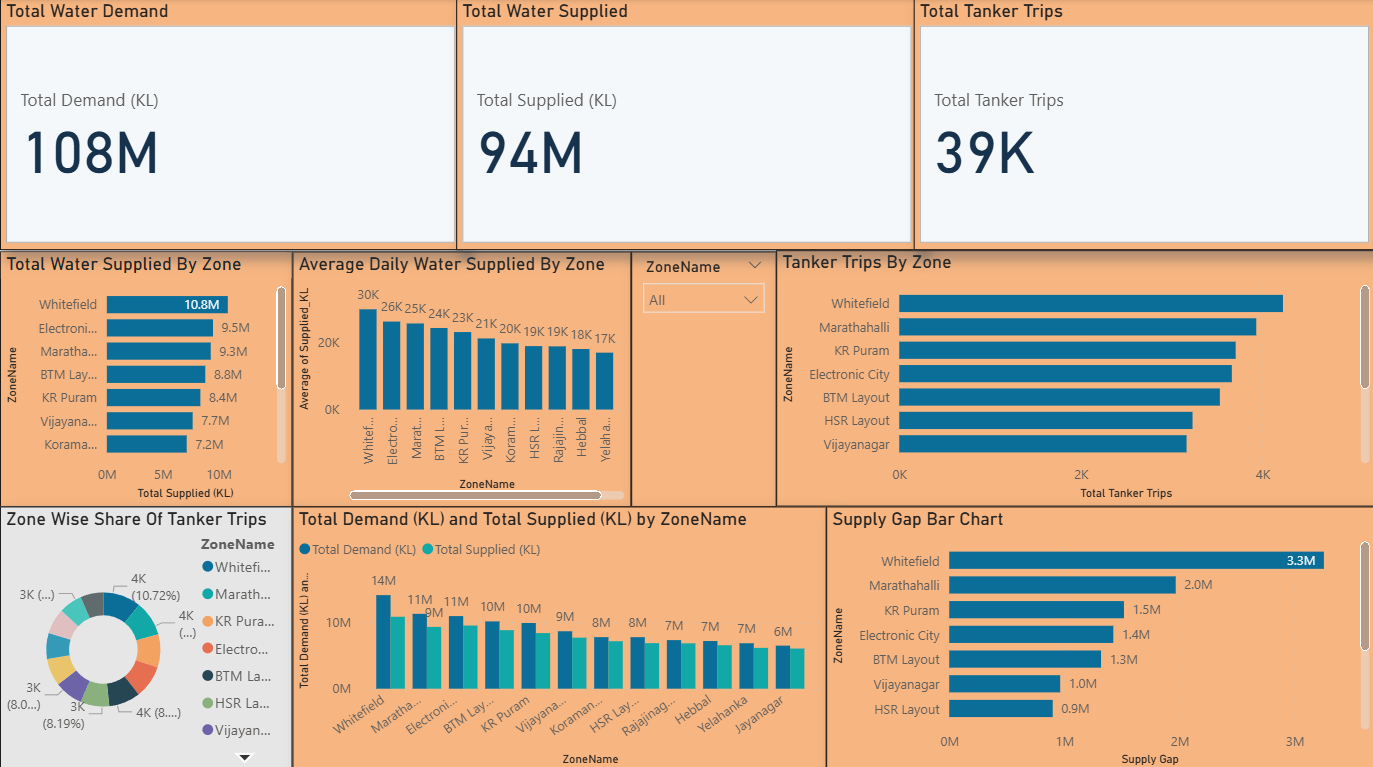

Layout of this report page (visuals, bound fields, positions):
{"tool":"powerbi","page":{"name":"02-Zone Reliability","canvas":[1280,720],"ordinal":1},"visuals":[{"type":"clusteredBarChart","title":"Total Water Supplied By Zone","fields":{"Category":["DimZone.ZoneName"],"Y":["Measures (2).Total Supplied (KL)"]},"box":[0,234.9,272.1,237.2],"z":0},{"type":"clusteredColumnChart","title":"Average Daily Water Supplied By Zone","fields":{"Category":["DimZone.ZoneName"],"Y":["Avg(FactDailySupply.Supplied_KL)"]},"box":[272.1,234.9,315.1,237.2],"z":1000},{"type":"slicer","fields":{"Values":["DimZone.ZoneName"]},"box":[587.2,234.9,134.9,237.2],"z":2000},{"type":"clusteredBarChart","title":"Tanker Trips By Zone","fields":{"Category":["DimZone.ZoneName"],"Y":["Measures (2).Total Tanker Trips"]},"box":[722.1,233.7,558.1,238.4],"z":3000},{"type":"donutChart","title":"Zone Wise Share Of Tanker Trips","fields":{"Category":["DimZone.ZoneName"],"Y":["Measures (2).Total Tanker Trips"]},"box":[0,472.1,272.1,247.7],"z":4000},{"type":"clusteredColumnChart","fields":{"Category":["DimZone.ZoneName"],"Y":["Measures (2).Total Demand (KL)","Measures (2).Total Supplied (KL)"]},"box":[272.1,472.1,496.5,247.7],"z":5000},{"type":"clusteredBarChart","title":"Supply Gap Bar Chart","fields":{"Category":["DimZone.ZoneName"],"Y":["DimDate.Supply Gap"]},"box":[768.6,472.1,511.6,247.7],"z":6000},{"type":"cardVisual","title":"Total Water Demand","fields":{"Data":["Measures (2).Total Demand (KL)"]},"box":[0,0,430.2,233.7],"z":7000},{"type":"cardVisual","title":"Total Water Supplied","fields":{"Data":["Measures (2).Total Supplied (KL)"]},"box":[424.4,0,430.2,233.7],"z":8000},{"type":"cardVisual","title":"Total Tanker Trips","fields":{"Data":["Measures (2).Total Tanker Trips"]},"box":[850,0,430.2,233.7],"z":9000}]}

Visuals, with their boxes in screenshot pixels (x1, y1, x2, y2), scaled from the page's 1280x720 canvas onto the 1373x767 screenshot:
"Total Water Supplied By Zone" clusteredBarChart: <box>0,250,292,503</box>
"Average Daily Water Supplied By Zone" clusteredColumnChart: <box>292,250,630,503</box>
slicer - DimZone.ZoneName: <box>630,250,775,503</box>
"Tanker Trips By Zone" clusteredBarChart: <box>775,249,1372,503</box>
"Zone Wise Share Of Tanker Trips" donutChart: <box>0,503,292,766</box>
clusteredColumnChart - DimZone.ZoneName x Measures (2).Total Demand (KL): <box>292,503,824,766</box>
"Supply Gap Bar Chart" clusteredBarChart: <box>824,503,1372,766</box>
"Total Water Demand" cardVisual: <box>0,0,461,249</box>
"Total Water Supplied" cardVisual: <box>455,0,917,249</box>
"Total Tanker Trips" cardVisual: <box>912,0,1372,249</box>
